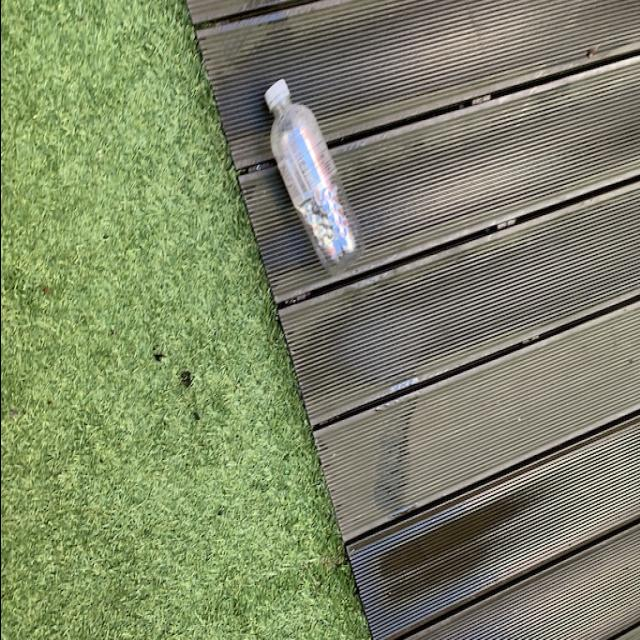litter: (260, 78, 364, 280)
